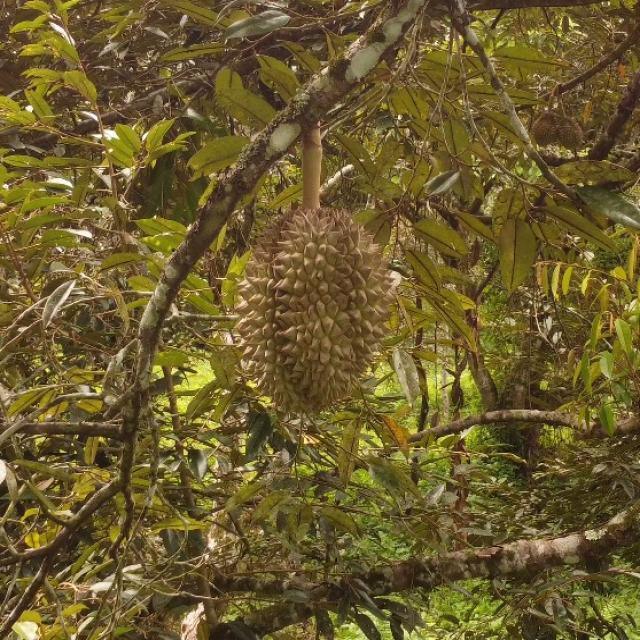mature: (229, 204, 395, 418)
